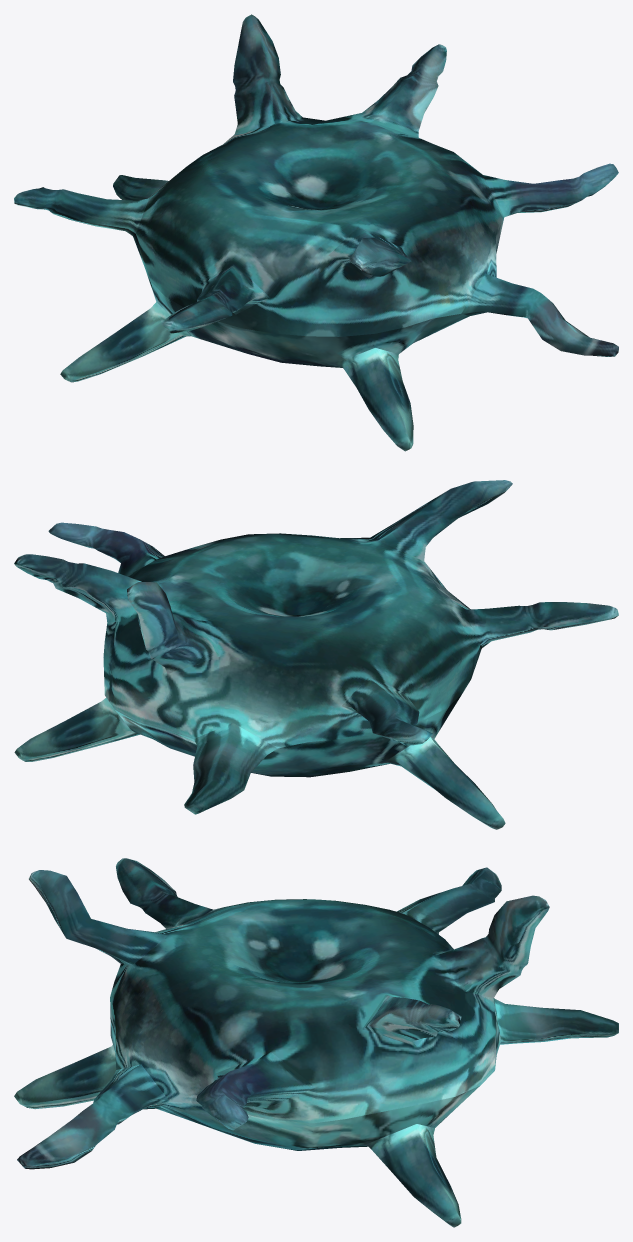
The model's file is lordakia.glb.
3 views of the same model, one above another, from view 1: azimuth 30°, elevation 25°; view 2: azimuth 150°, elevation 25°; view 3: azimuth 270°, elevation 25° (orthographic). The views are drawn at different scales.
Parts seen in each view (by area): view 1: lordakia; view 2: lordakia; view 3: lordakia.
Boxes of the visible parts, x1,y1,x2,y2 form: lordakia: (14,14,618,451); lordakia: (14,480,618,829); lordakia: (14,858,618,1227).
Size of the model in its own units: 78.9 by 36.1 by 76.92.
1 material, 1 textured.
